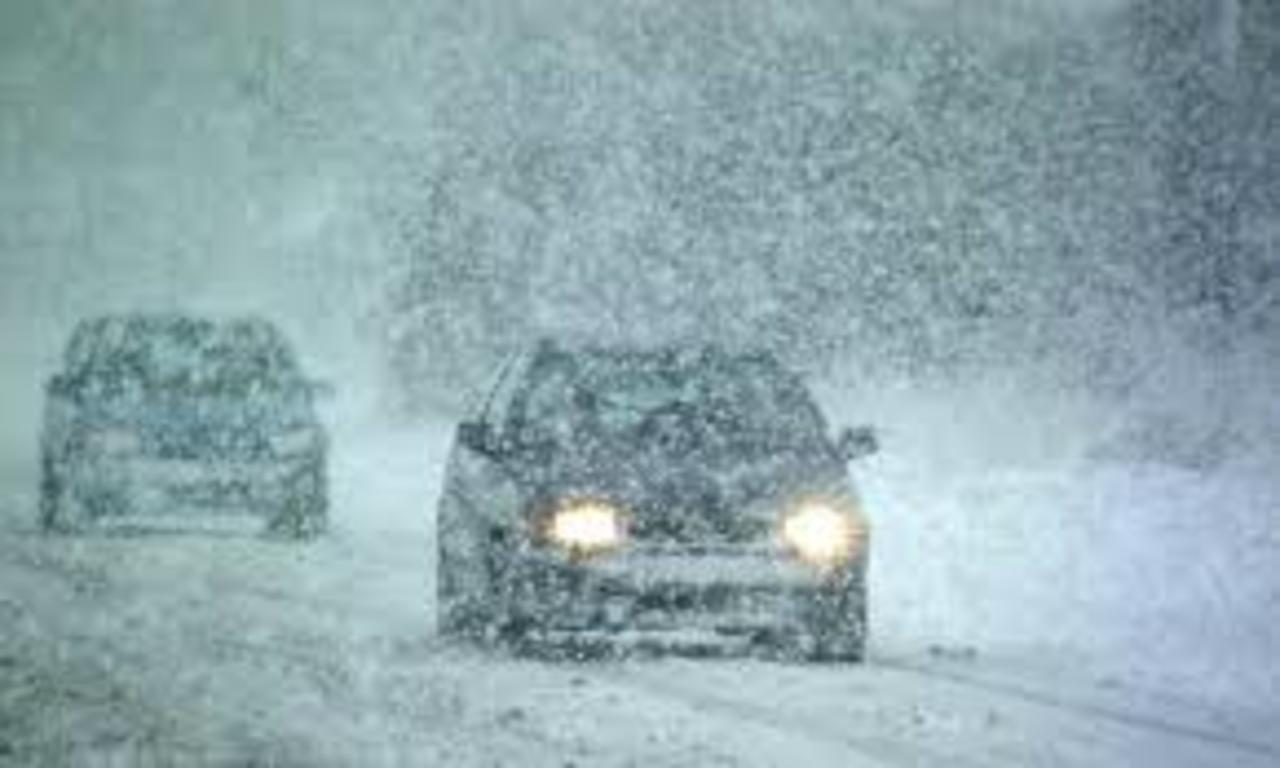car: (441, 324, 878, 669), (41, 313, 336, 539)
